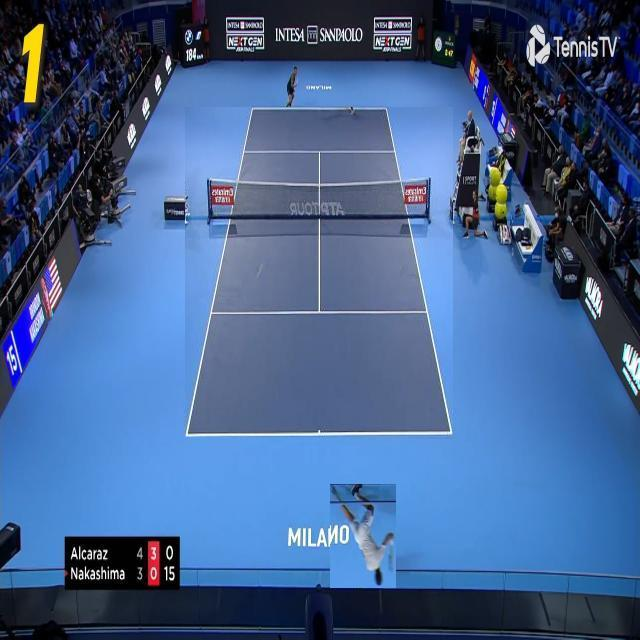court: (185, 107, 453, 437)
net: (206, 178, 432, 220)
player: (330, 484, 396, 588)
